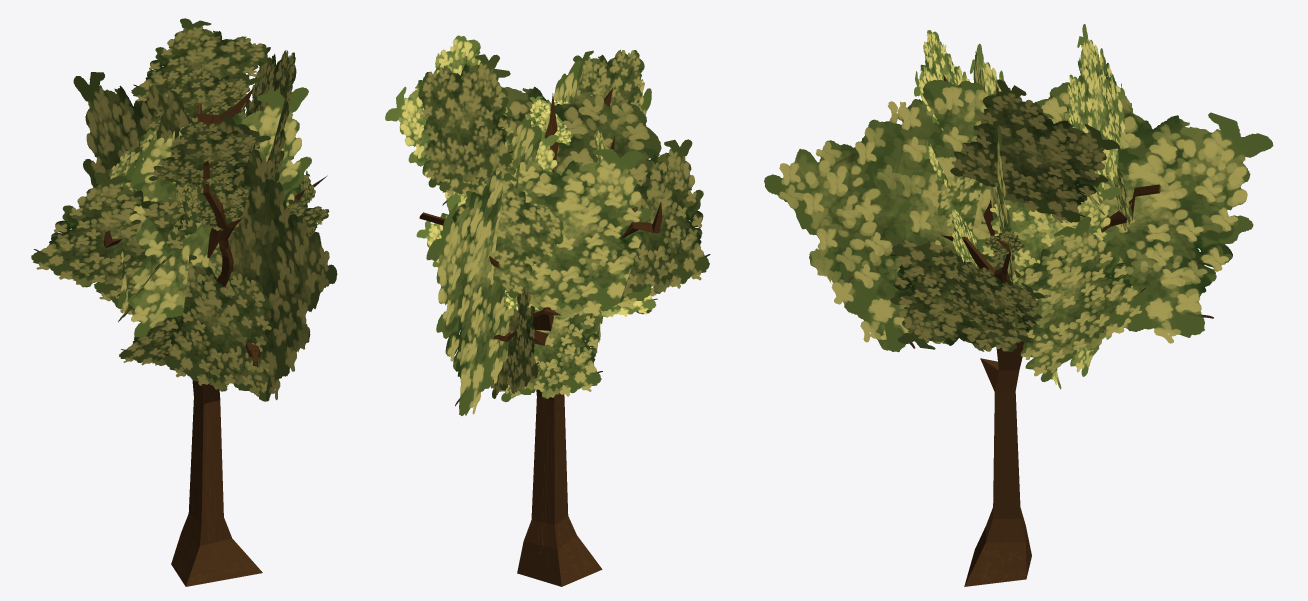
Rendered from ipe-amarelo2.fbx.
The picture shows the model from 3 angles, left to right: view 1: azimuth 30°, elevation 25°; view 2: azimuth 150°, elevation 25°; view 3: azimuth 270°, elevation 25°; orthographic projection. The views are drawn at different scales.
Parts seen in each view (by area): view 1: Plane, tronco, Plane.012, Plane.002, Plane.025, Plane.001, Plane.019, Plane.015, Plane.018, Plane.040, Plane.014, Plane.006 (+4 smaller); view 2: Plane.026, Plane.001, tronco, Plane.019, Plane.025, Plane.012, Plane.037, Plane.006, Plane.040, Plane.015, Plane.007, Plane (+5 smaller); view 3: Plane, Plane.001, Plane.040, Plane.033, tronco, Plane.039, Plane.038, Plane.019, Plane.004, Plane.015, Plane.011, Plane.012 (+1 smaller).
Part boxes in pixels (x1,y1,x2,y2): Plane: (220, 116, 337, 400); tronco: (103, 70, 327, 586); Plane.012: (127, 87, 311, 337); Plane.002: (163, 254, 271, 401); Plane.025: (31, 172, 196, 299); Plane.001: (73, 72, 193, 187); Plane.019: (131, 18, 267, 101); Plane.015: (149, 121, 270, 188); Plane.018: (147, 69, 259, 131); Plane.040: (246, 47, 296, 181); Plane.014: (194, 175, 250, 233); Plane.006: (119, 319, 180, 365); Plane.026: (507, 149, 651, 319); Plane.001: (426, 118, 541, 415); tronco: (419, 88, 662, 586); Plane.019: (418, 54, 513, 187); Plane.025: (619, 139, 710, 302); Plane.012: (449, 68, 661, 314); Plane.037: (440, 173, 563, 298); Plane.006: (500, 312, 602, 402); Plane.040: (385, 35, 480, 210); Plane.015: (573, 49, 644, 113); Plane.007: (490, 278, 538, 398); Plane: (542, 60, 651, 136); Plane: (764, 79, 990, 352); Plane.001: (976, 82, 1273, 343); Plane.040: (950, 90, 1119, 222); Plane.033: (1011, 217, 1147, 381); tronco: (941, 74, 1160, 586); Plane.039: (890, 240, 1021, 351); Plane.038: (944, 261, 1044, 342); Plane.019: (1069, 24, 1125, 184); Plane.004: (982, 184, 1120, 266); Plane.015: (914, 30, 969, 130); Plane.011: (937, 176, 982, 231); Plane.012: (973, 51, 1017, 332).
Size of the model in its own units: 703 by 1207 by 1077.
